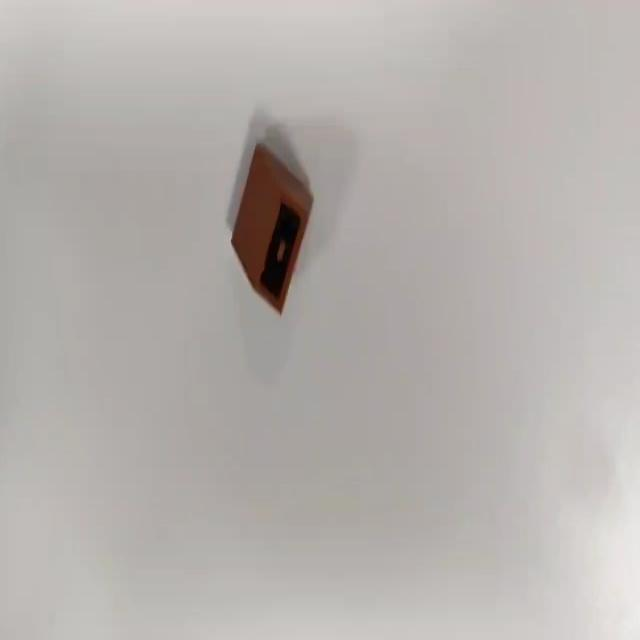X2x2x1: (230, 140, 314, 316)
